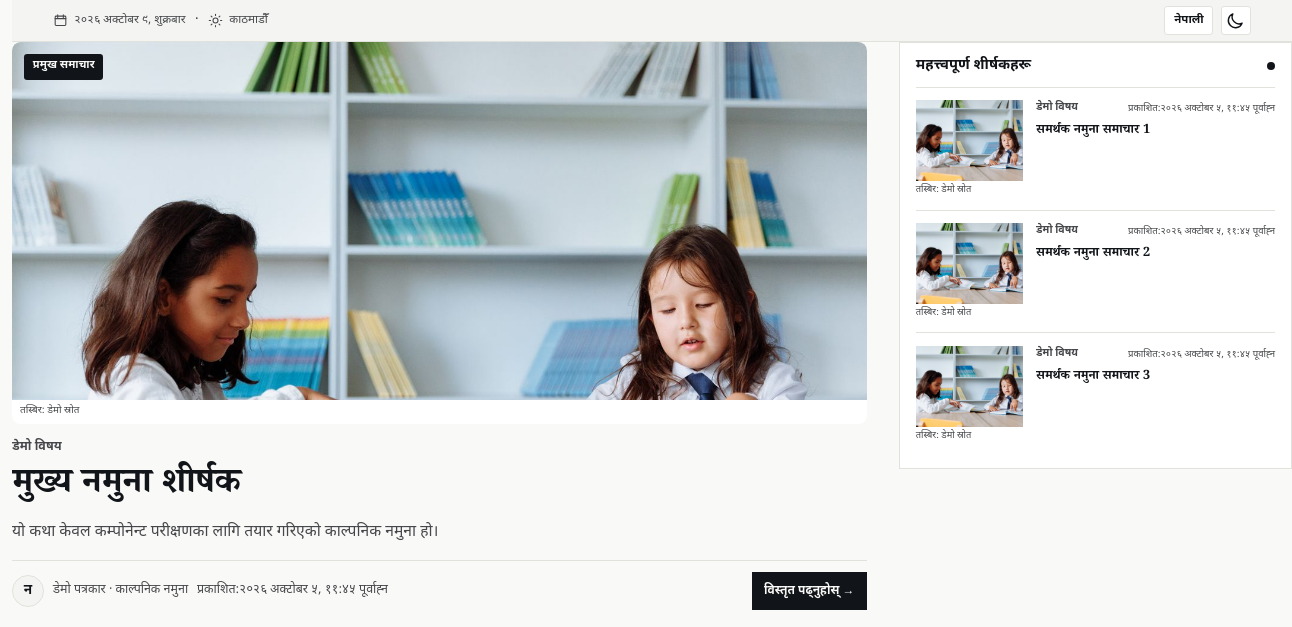
lead story, media, corrections, and references › renders a lead with three important headlines and keeps remaining stories in the feed
Expected: the element with class "lead-story" is shown, [12, 42, 867, 610]
Expected: the heading "मुख्य नमुना शीर्षक" is shown, [12, 459, 241, 514]
Click the button named "अंग्रेजीमा बदल्नुहोस्" at [1189, 20], box [1164, 6, 1213, 35]
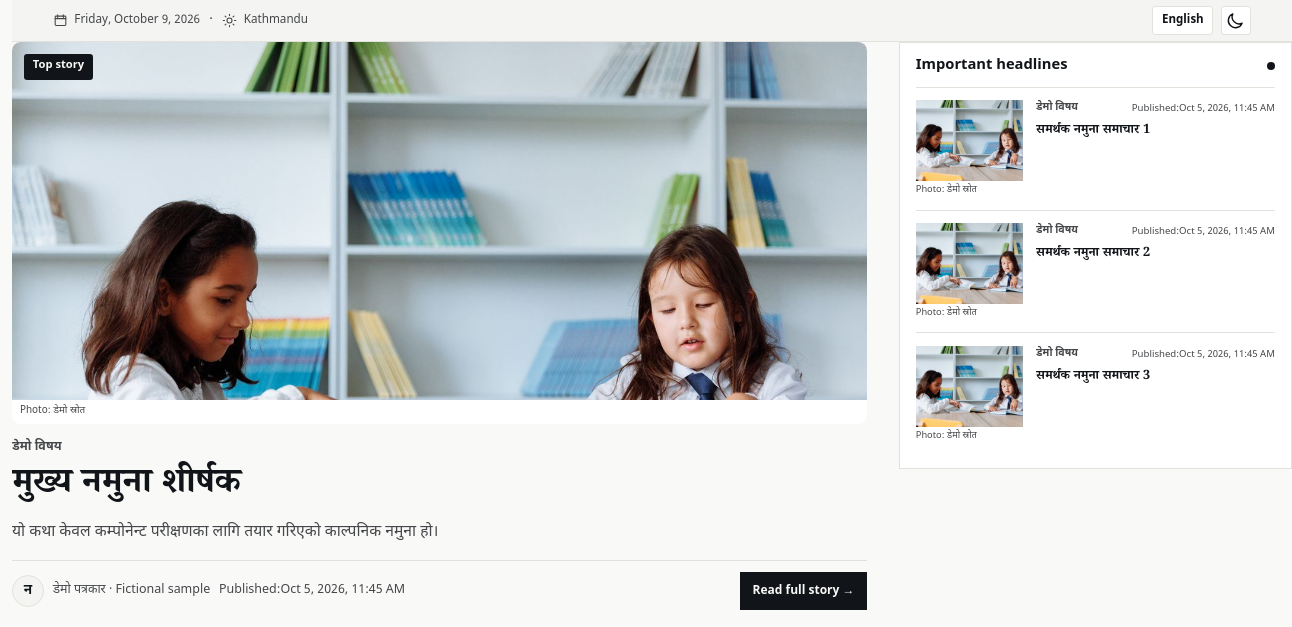
Result: the element "Important headlines" is shown at [899, 42, 1291, 469]
Click the button with aria-label "Switch to Nepali" at [1183, 20], box [1152, 6, 1214, 35]
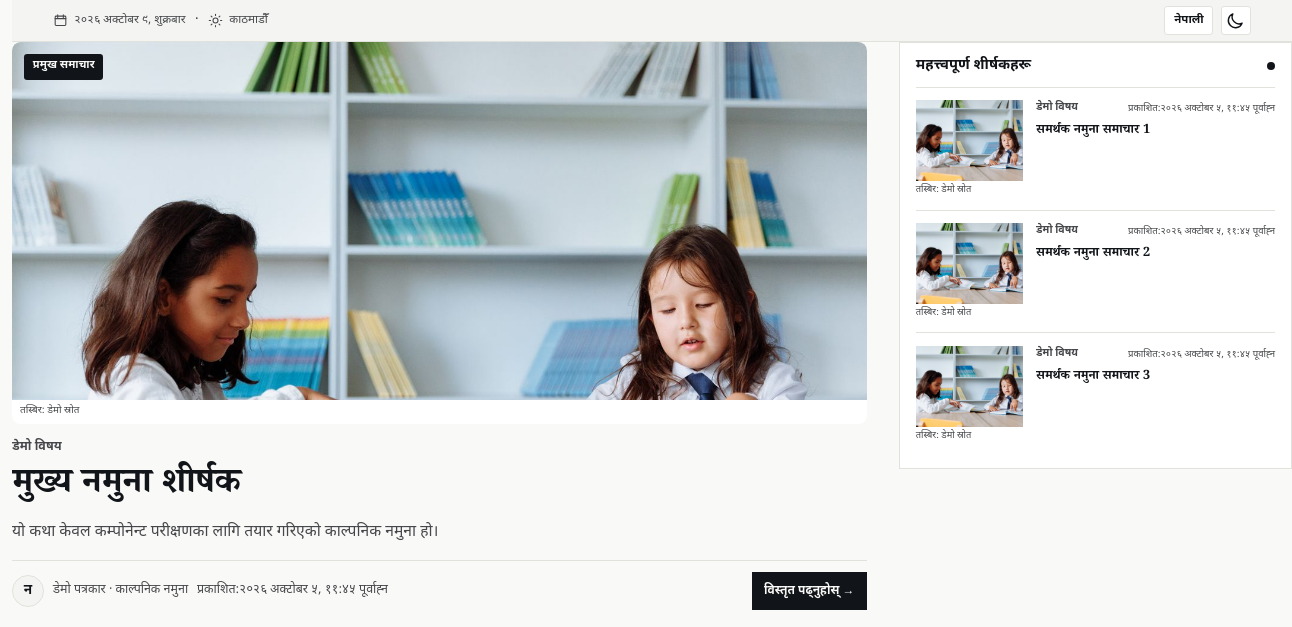
Result: the element "महत्त्वपूर्ण शीर्षकहरू" is shown at [899, 42, 1291, 469]
